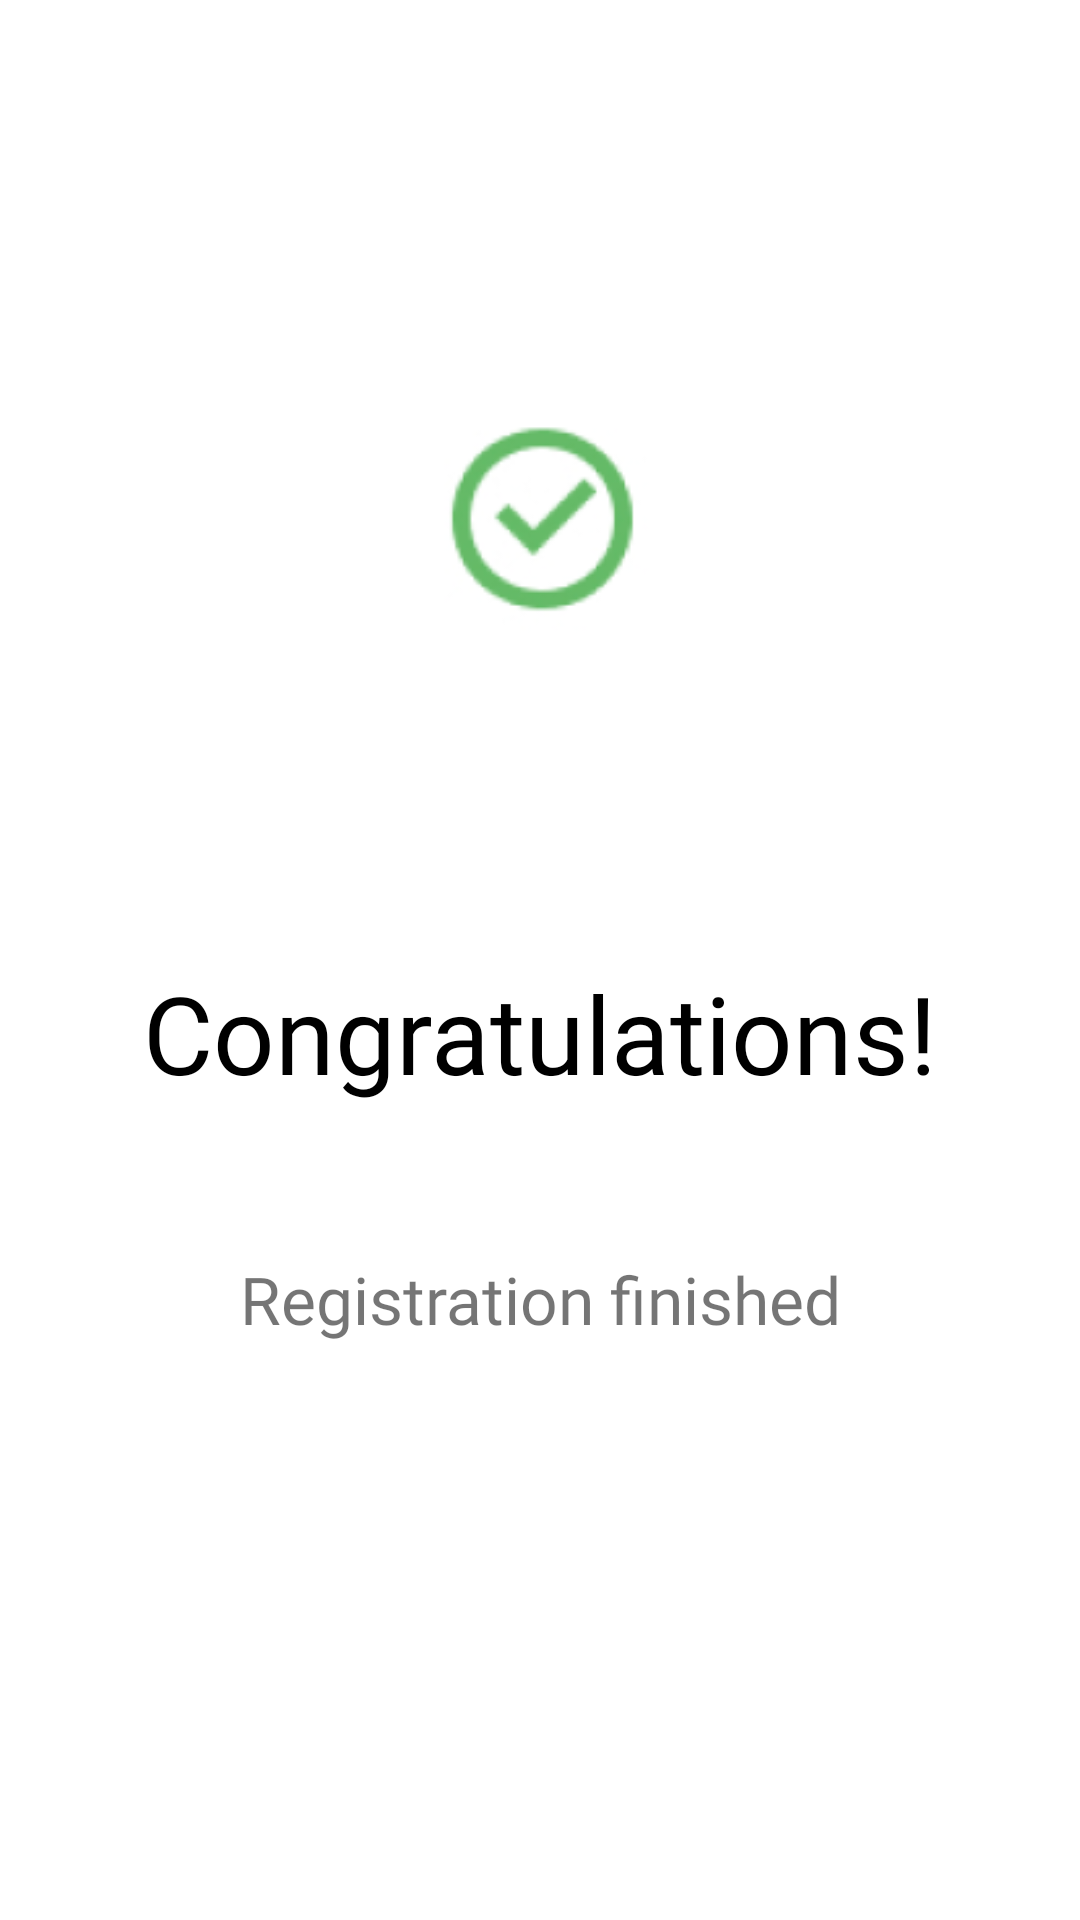

Screen size 1080x1920. Icon name, then its box in pixels as region(x1, y1, x2, y2):
success: region(451, 427, 633, 611)
